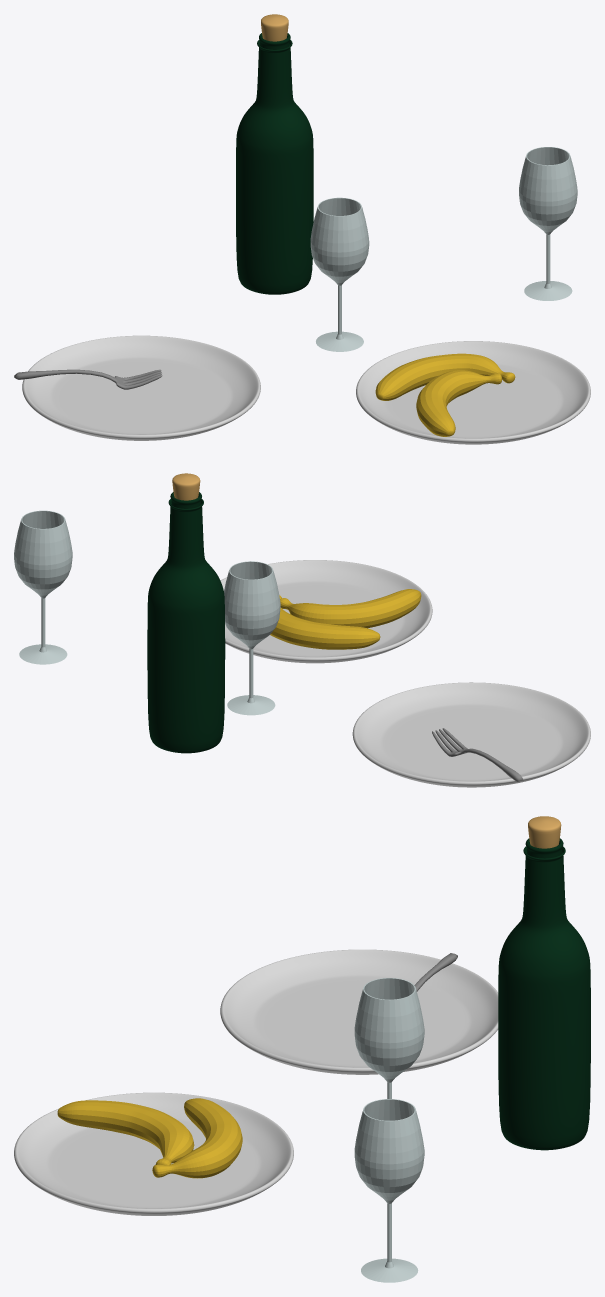
File: Food.fbx
3 renders of one model, top to bottom at view 1: azimuth 30°, elevation 25°; view 2: azimuth 150°, elevation 25°; view 3: azimuth 270°, elevation 25°, orthographic. The views are drawn at different scales.
Parts seen in each view (by area): view 1: Food; view 2: Food; view 3: Food.
Part boxes in pixels (x1,y1,x2,y2): Food: (14,14,590,444); Food: (14,473,590,787); Food: (14,816,590,1282).
Size of the model in its own units: 86.46 by 41.8 by 66.32.
